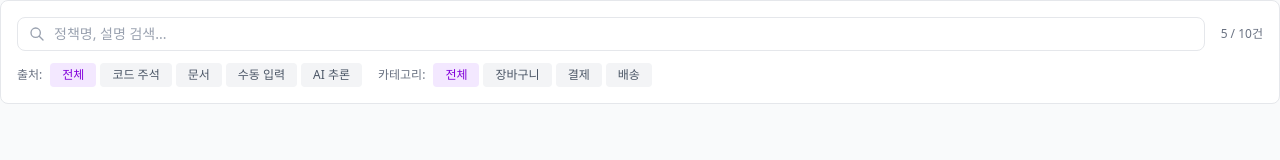
Test case: PolicyFilter › should clear search when clear button is clicked
The width and height of the screenshot is (1280, 160).
Type "테스트" into the field with placeholder "정책명, 설명 검색..." at (611, 34), box [17,17,1205,51]
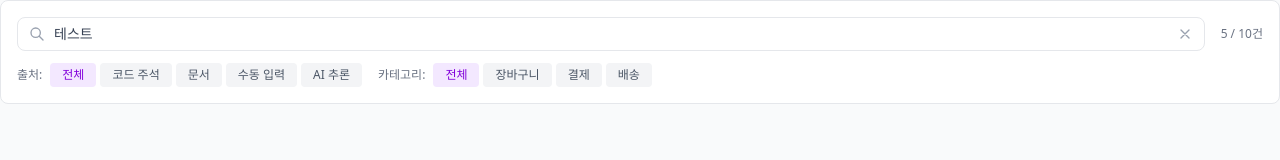
Click the button named "검색 초기화" at (1191, 34), box [1177,17,1205,51]
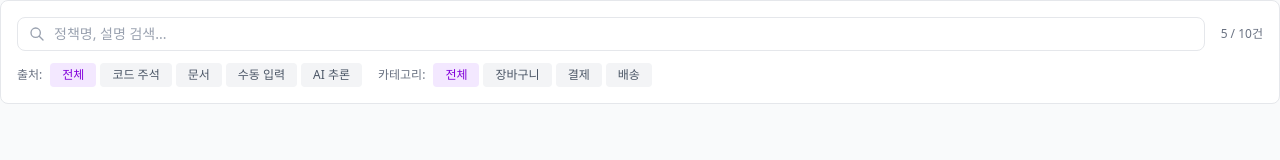
Check: the field with placeholder "정책명, 설명 검색..." is empty, box [17,17,1205,51]
